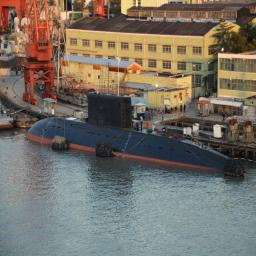submarine: (26, 96, 246, 175)
